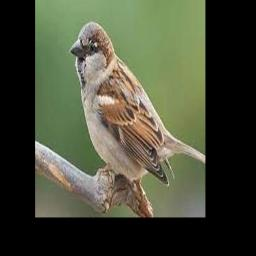Sparrow: (70, 21, 205, 187)
